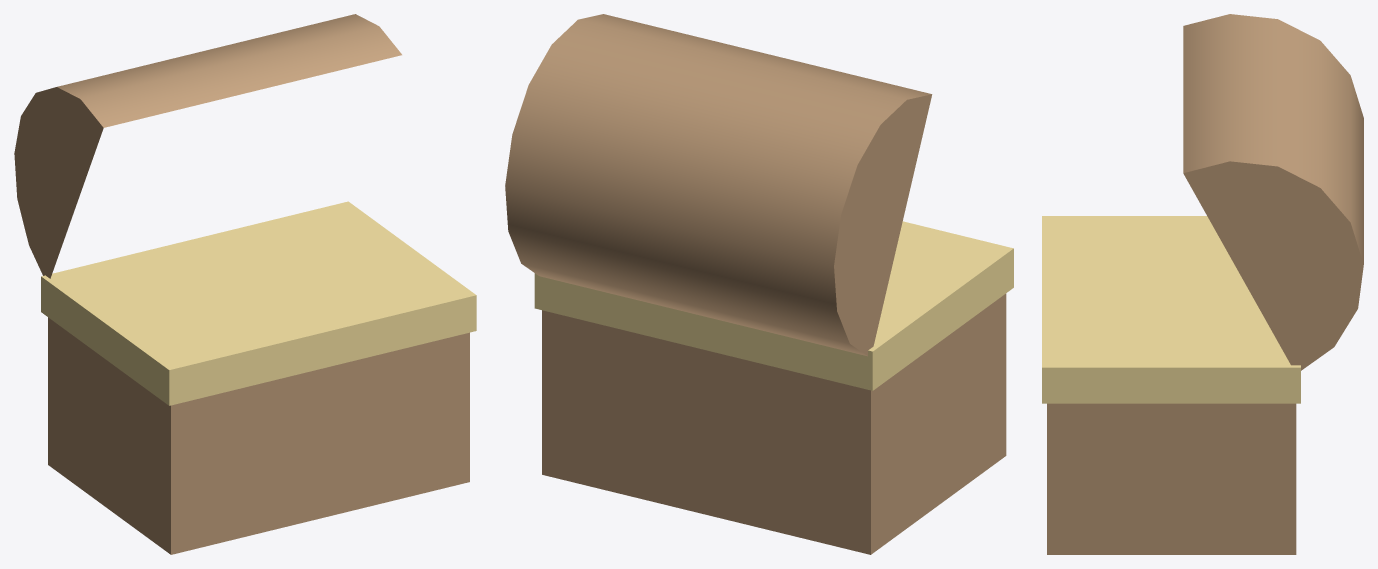
Rendered from chest_open.glb.
3 views of the same model, side by side, from view 1: azimuth 30°, elevation 25°; view 2: azimuth 150°, elevation 25°; view 3: azimuth 270°, elevation 25° (orthographic). The views are drawn at different scales.
Parts seen in each view (by area): view 1: chest_open, lidPiv; view 2: lidPiv, chest_open; view 3: chest_open, lidPiv.
Boxes of the visible parts, left/top/right/bottom form: chest_open: left=41, top=201, right=476, bottom=554; lidPiv: left=14, top=14, right=401, bottom=278; lidPiv: left=505, top=14, right=932, bottom=356; chest_open: left=534, top=221, right=1013, bottom=554; chest_open: left=1042, top=216, right=1300, bottom=554; lidPiv: left=1183, top=14, right=1363, bottom=370.
Size of the model in its own units: 0.72 by 0.872 by 0.6458.
